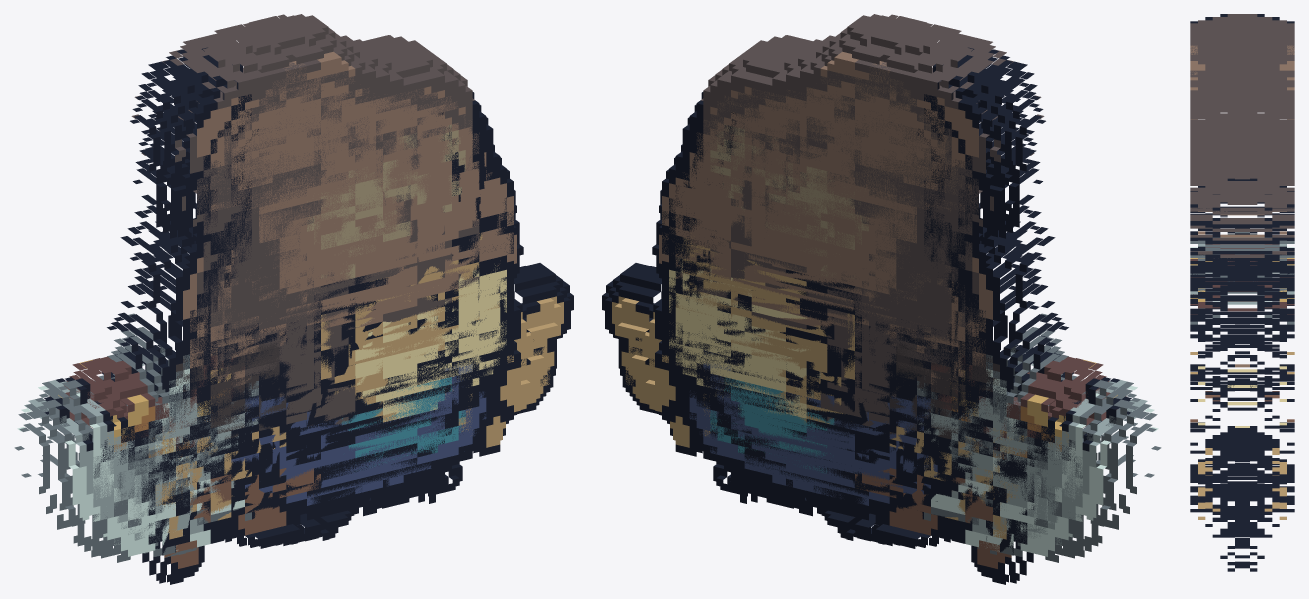
File: machado_correndo.glb
3 views of the same model, side by side, from view 1: azimuth 30°, elevation 25°; view 2: azimuth 150°, elevation 25°; view 3: azimuth 270°, elevation 25° (orthographic). The views are drawn at different scales.
Visible parts, largest first — view 1: q0, q1, q2, q4, q3, q5; view 2: q0, q1, q2, q4, q3, q5; view 3: q1, q0, q2, q4, q5, q3.
Boxes of the visible parts, x1=… form: q0: x1=35, y1=37, x2=556, y2=538; q1: x1=14, y1=14, x2=573, y2=548; q2: x1=38, y1=90, x2=555, y2=584; q4: x1=107, y1=22, x2=479, y2=525; q3: x1=107, y1=49, x2=482, y2=545; q5: x1=74, y1=91, x2=508, y2=557; q0: x1=618, y1=37, x2=1140, y2=538; q1: x1=602, y1=14, x2=1161, y2=548; q2: x1=620, y1=95, x2=1137, y2=584; q4: x1=696, y1=22, x2=1068, y2=525; q3: x1=689, y1=49, x2=1068, y2=545; q5: x1=667, y1=91, x2=1101, y2=556; q1: x1=1190, y1=35, x2=1294, y2=528; q0: x1=1190, y1=54, x2=1294, y2=536; q2: x1=1190, y1=68, x2=1294, y2=528; q4: x1=1190, y1=14, x2=1294, y2=547; q5: x1=1190, y1=100, x2=1294, y2=571; q3: x1=1190, y1=54, x2=1294, y2=568.
Bounding box in the file's own units: 77 × 72 × 14.
Materials: 1 (1 with a texture image).
